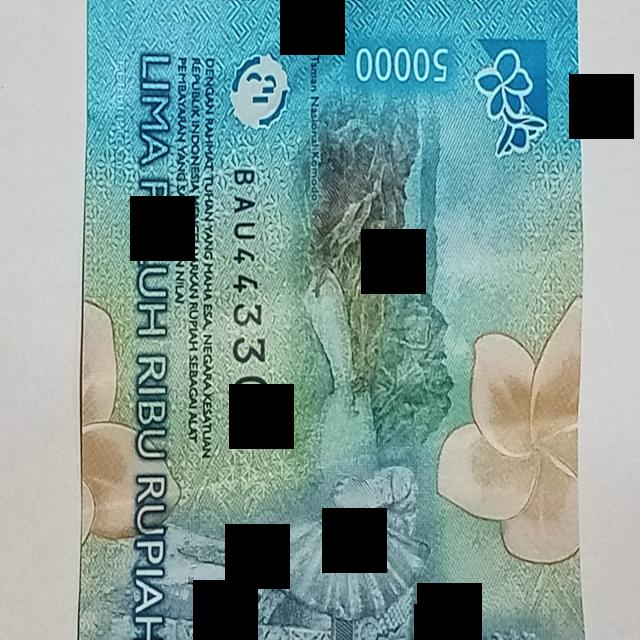lima puluh ribu rupiah: (79, 2, 582, 638)
